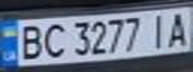2: (87, 17, 109, 56)
3: (69, 18, 93, 57)
7: (121, 14, 148, 52), (106, 16, 127, 54)
A: (163, 9, 193, 48)
B: (12, 21, 48, 61)
C: (36, 20, 69, 60)
I: (145, 11, 172, 50)
